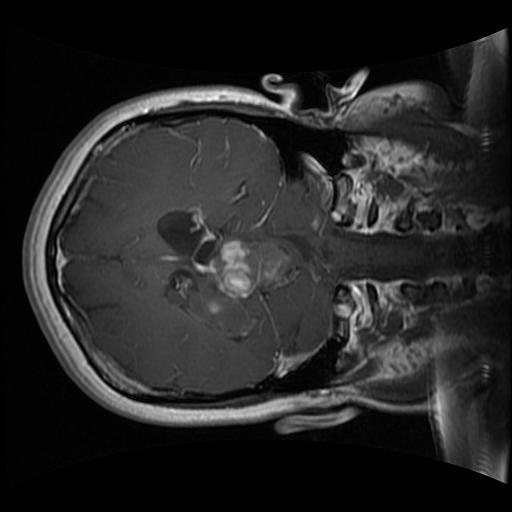glioma: (161, 233, 304, 338)
